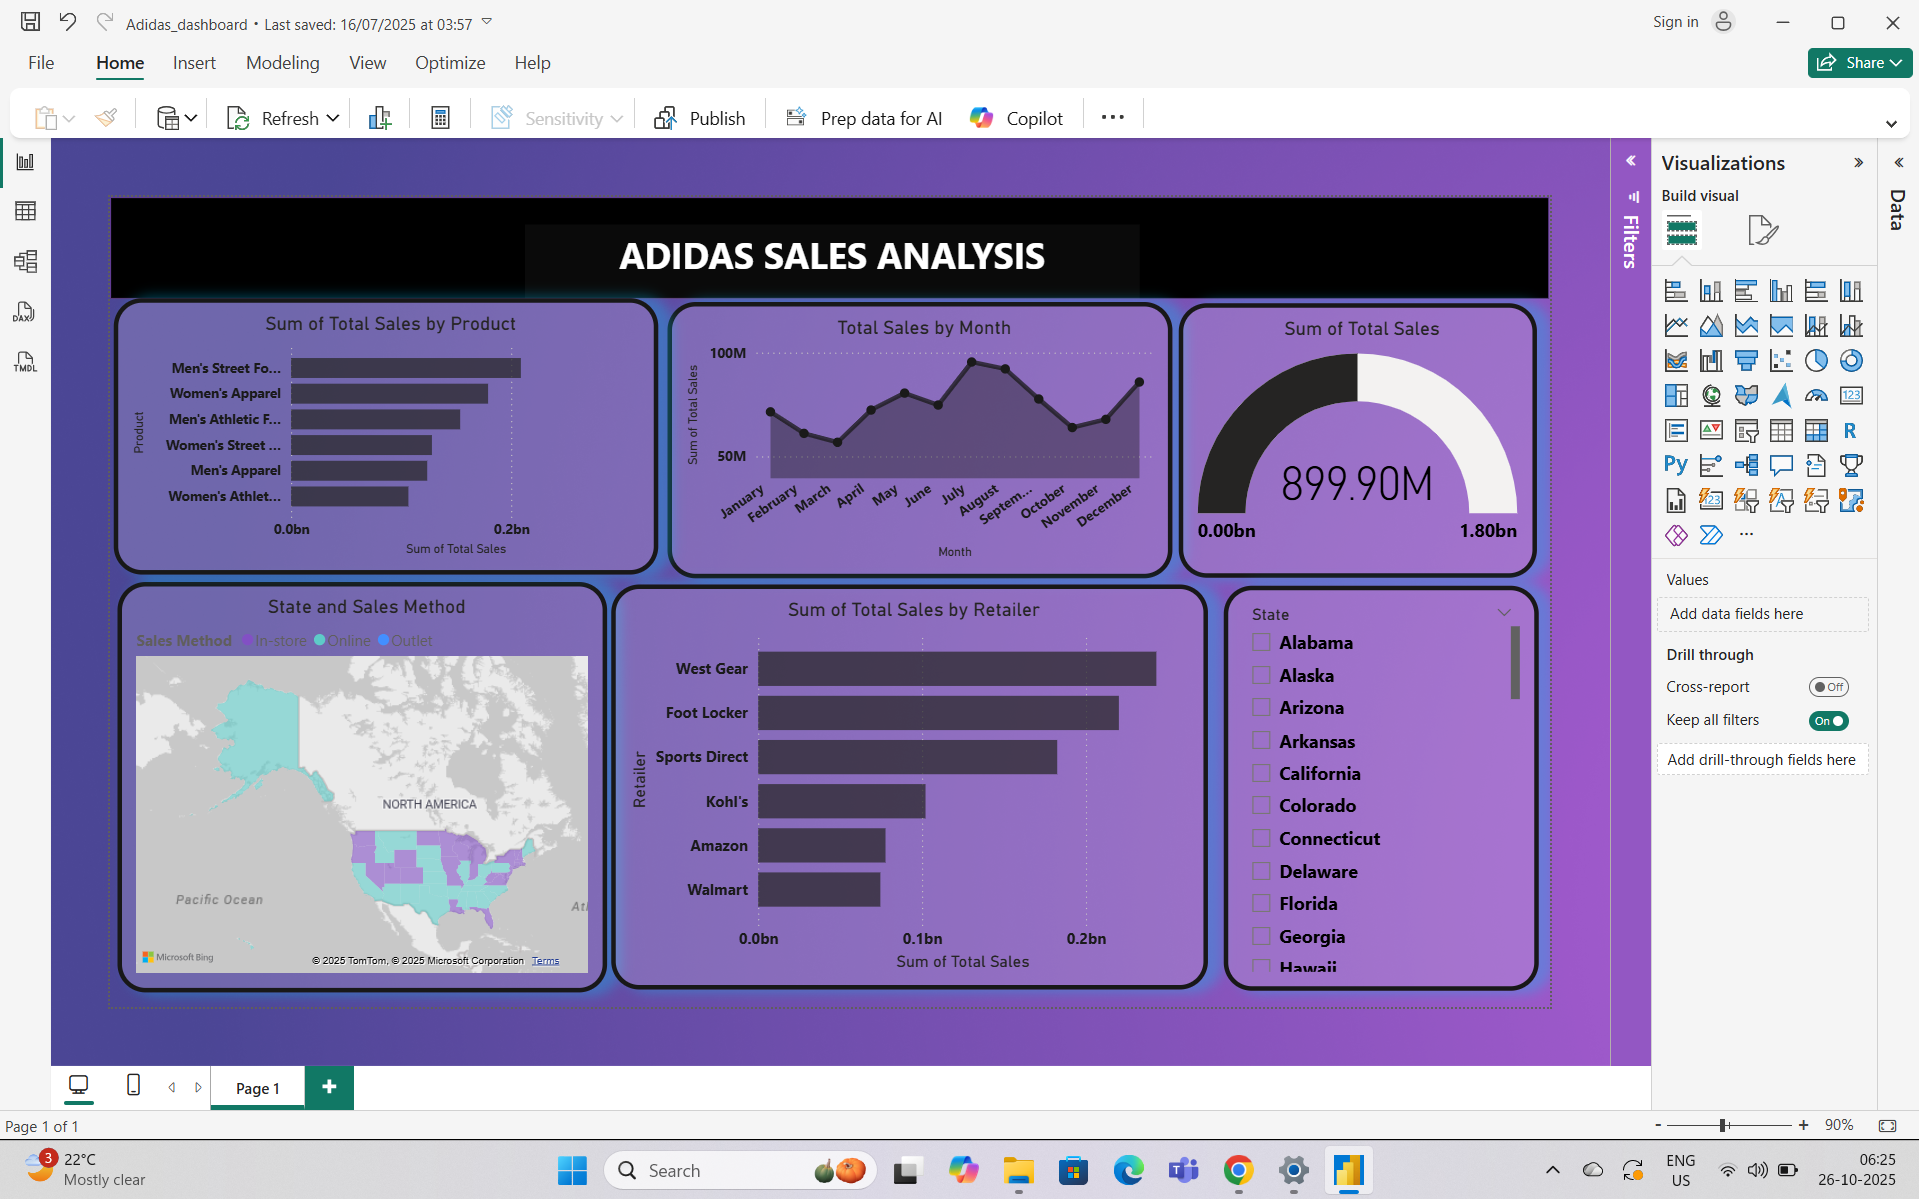

Layout of this report page (visuals, bound fields, positions):
{"tool":"powerbi","page":{"name":"Page 1","canvas":[1280,720],"ordinal":0},"visuals":[{"type":"shape","box":[0,0,1279.4,90.7],"z":0},{"type":"textbox","box":[368.5,24.6,546.1,66.1],"z":1000},{"type":"areaChart","title":" Total Sales by Month","fields":{"Y":["Sum(Data Sales Adidas.Total Sales)"],"Category":["Data Sales Adidas.Invoice Date.Variation.Date Hierarchy.Month"]},"box":[495.7,92.9,448.6,245.7],"z":2000},{"type":"filledMap","fields":{"Category":["Data Sales Adidas.State"],"Series":["Data Sales Adidas.Sales Method"]},"box":[6.7,341.7,435,365],"z":3000},{"type":"gauge","fields":{"Y":["Sum(Data Sales Adidas.Total Sales)"]},"box":[950,94,318,244],"z":4000},{"type":"barChart","fields":{"Category":["Data Sales Adidas.Product"],"Y":["Sum(Data Sales Adidas.Total Sales)"]},"box":[2.9,90,484.3,245.7],"z":5000},{"type":"barChart","fields":{"Y":["Sum(Data Sales Adidas.Total Sales)"],"Category":["Data Sales Adidas.Retailer"]},"box":[446,344,530,360],"z":6000},{"type":"slicer","fields":{"Values":["Data Sales Adidas.State"]},"box":[990,346,280,360],"z":7000}]}

Visuals, with their boxes on the page's 1280x720 design canvas (x1, y1, x2, y2). These are canvas units, not pixel positions in the 1919x1199 screenshot, which may show the page scaled, cropped or inside an application window:
shape: crop(0, 0, 1279, 91)
textbox: crop(368, 25, 915, 91)
" Total Sales by Month" areaChart: crop(496, 93, 944, 339)
filledMap - Data Sales Adidas.State x Data Sales Adidas.Sales Method: crop(7, 342, 442, 707)
gauge - Sum(Data Sales Adidas.Total Sales): crop(950, 94, 1268, 338)
barChart - Data Sales Adidas.Product x Sum(Data Sales Adidas.Total Sales): crop(3, 90, 487, 336)
barChart - Sum(Data Sales Adidas.Total Sales) x Data Sales Adidas.Retailer: crop(446, 344, 976, 704)
slicer - Data Sales Adidas.State: crop(990, 346, 1270, 706)
